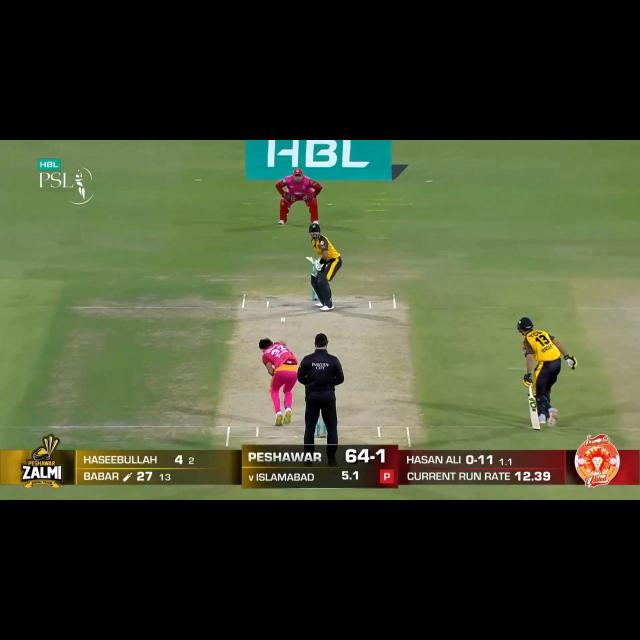bat: (526, 395, 540, 432), (303, 252, 316, 264)
toe: (304, 254, 313, 263), (532, 423, 540, 432)
